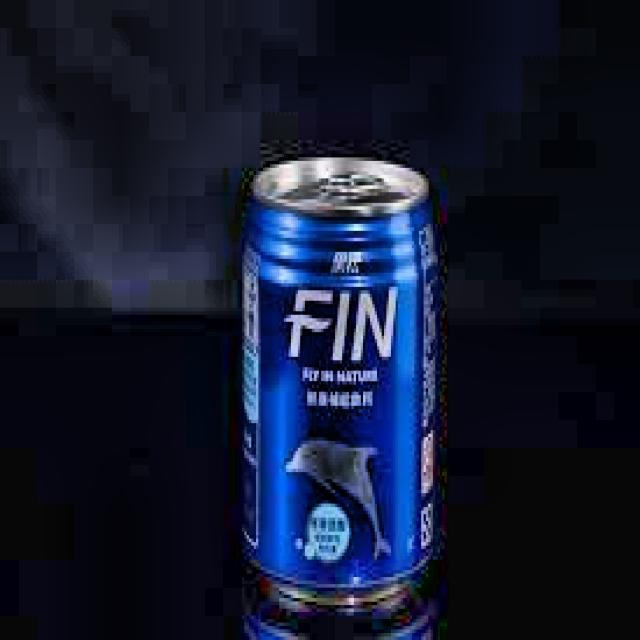can: (233, 143, 442, 640)
